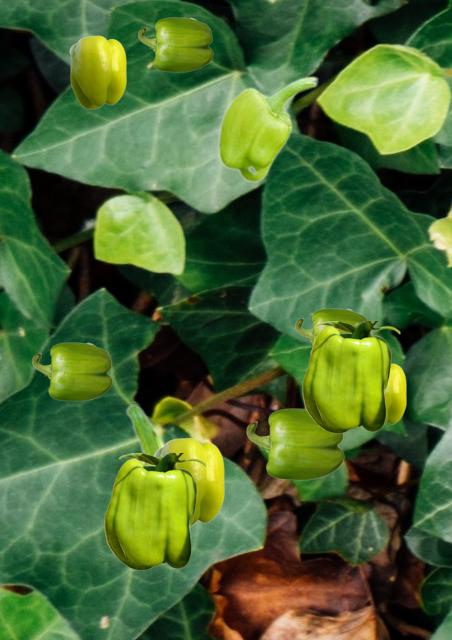bell_pepper: (104, 453, 205, 569), (217, 75, 318, 182), (302, 321, 399, 432), (246, 408, 343, 479), (153, 437, 223, 526), (32, 342, 111, 400), (69, 35, 125, 108), (138, 17, 212, 71), (295, 308, 368, 351), (123, 404, 166, 464), (385, 363, 405, 425)
